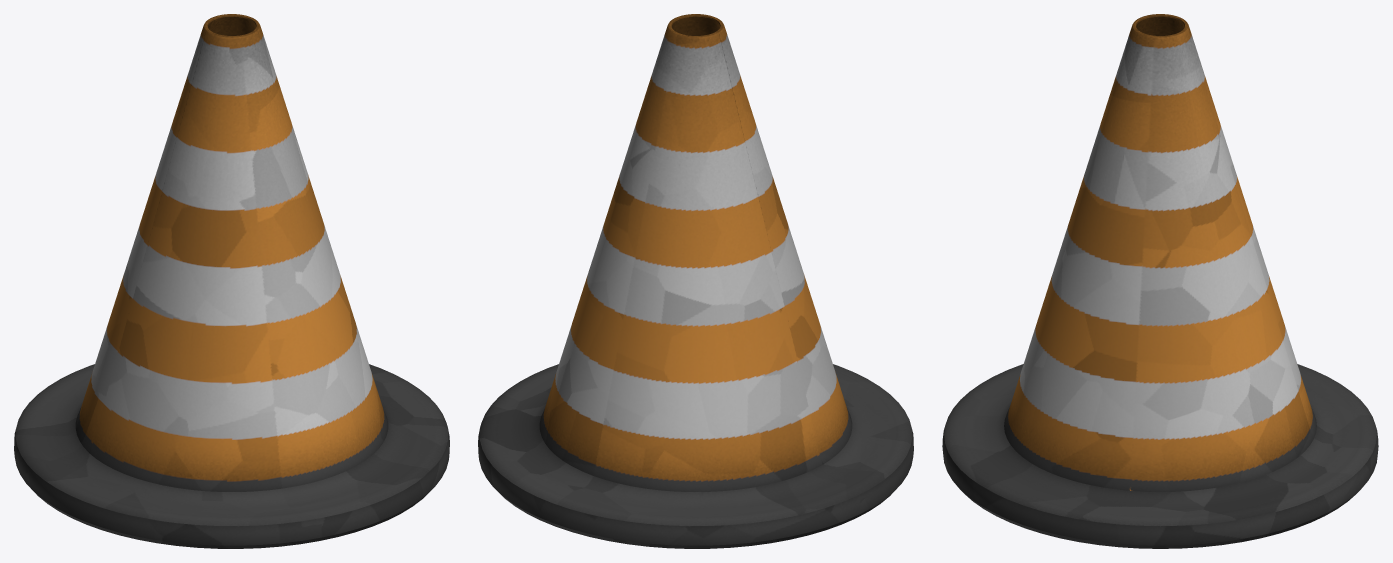
The model's file is CONO.fbx.
The picture shows the model from 3 angles, left to right: view 1: azimuth 30°, elevation 25°; view 2: azimuth 150°, elevation 25°; view 3: azimuth 270°, elevation 25°; orthographic projection.
Visible parts, largest first — view 1: CONO_Baked; view 2: CONO_Baked; view 3: CONO_Baked.
Boxes of the visible parts, x1,y1,x2,y2 form: CONO_Baked: [14, 14, 449, 548]; CONO_Baked: [478, 14, 913, 548]; CONO_Baked: [942, 14, 1378, 548].
Bounding box in the file's own units: 71.51 × 78.89 × 71.51.
Materials: 1 (1 with a texture image).
